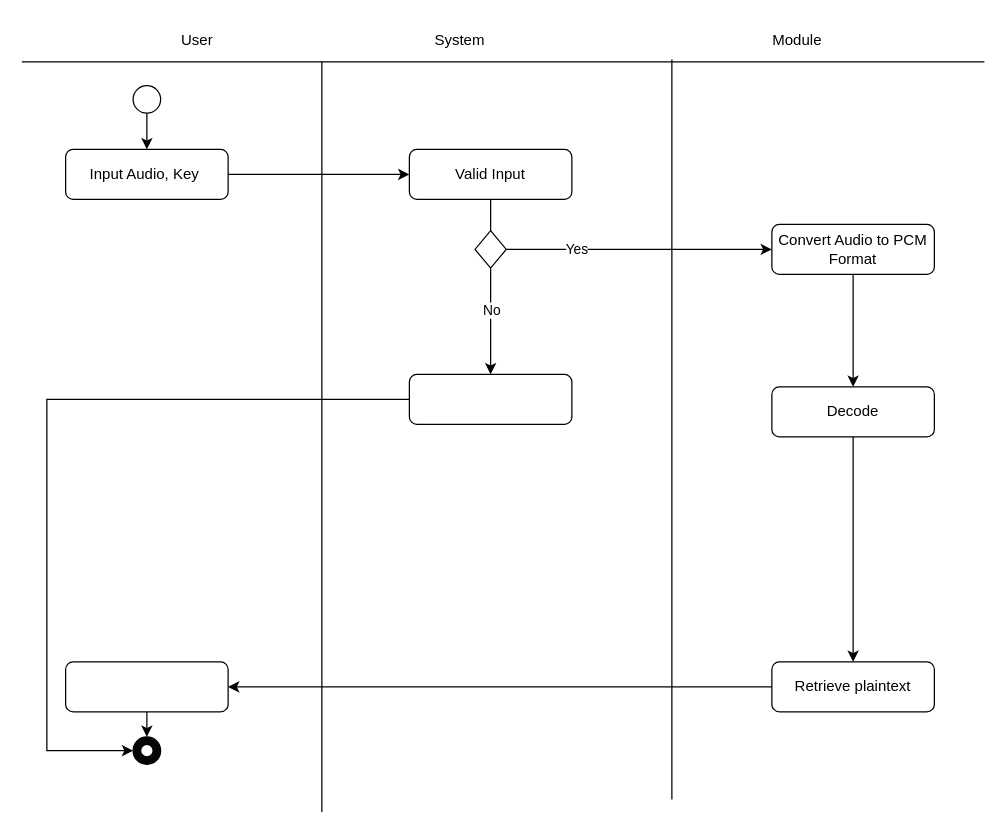
Some shapes in this 1008 by 835 pixel diagram are drawn without their labels. Each missing label, with the box of its shape:
Decoded Message: (64, 661, 228, 712)
Display Error: (408, 373, 572, 424)
